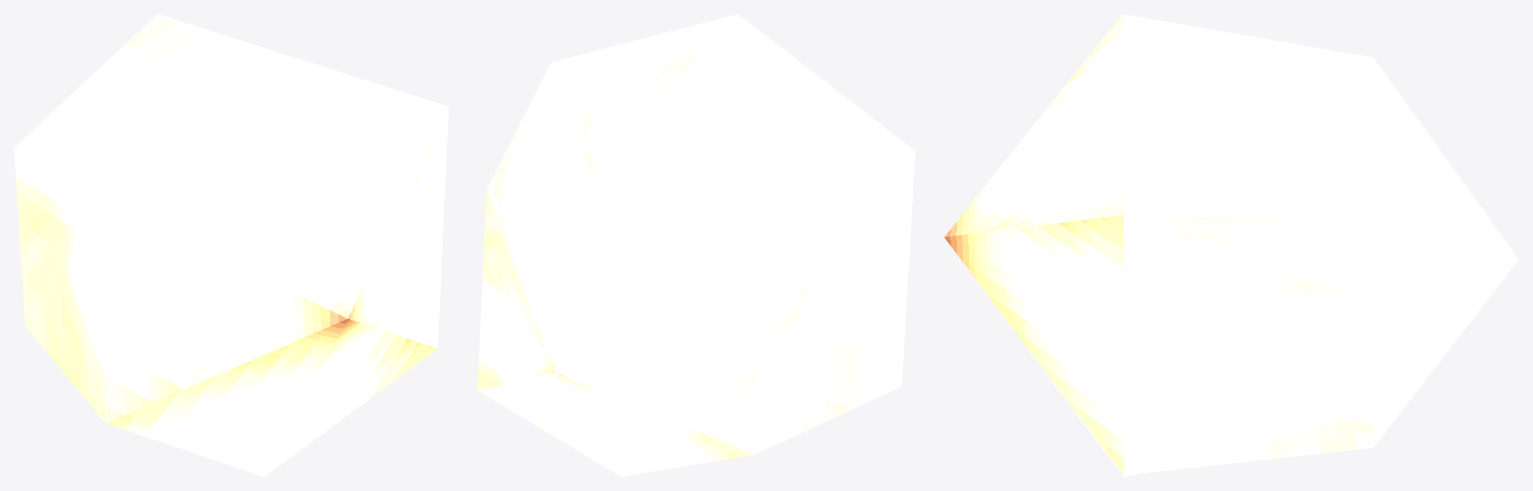
The model's file is muzzleflash2.glb.
3 renders of one model, left to right at view 1: azimuth 30°, elevation 25°; view 2: azimuth 150°, elevation 25°; view 3: azimuth 270°, elevation 25°, orthographic. The views are drawn at different scales.
Parts seen in each view (by area): view 1: MuzzleFlash2; view 2: MuzzleFlash2; view 3: MuzzleFlash2.
Boxes of the visible parts, left/top/right/bottom form: MuzzleFlash2: left=14, top=14, right=448, bottom=476; MuzzleFlash2: left=477, top=14, right=915, bottom=476; MuzzleFlash2: left=944, top=14, right=1518, bottom=476.
Bounding box in the file's own units: 0.9561 × 1.08 × 1.21.
